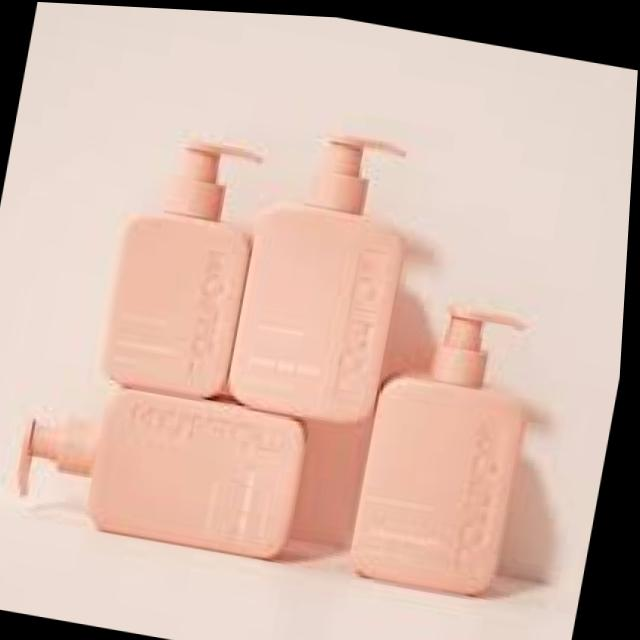Botella: (329, 277, 552, 606)
